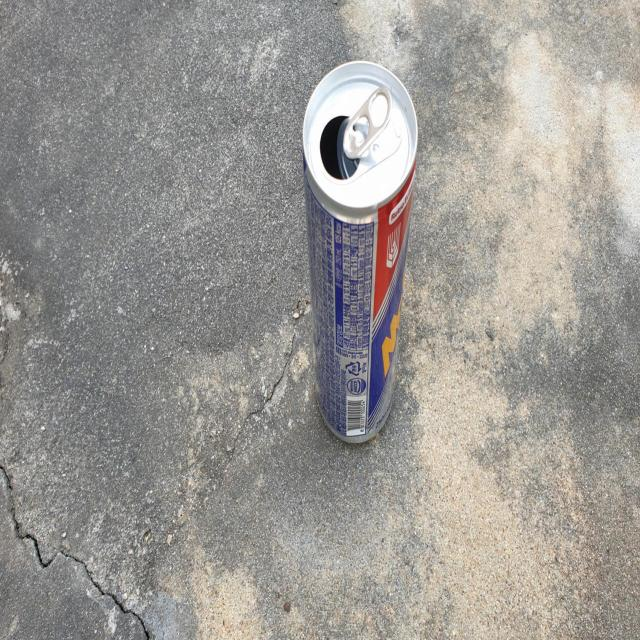can: (303, 60, 418, 442)
